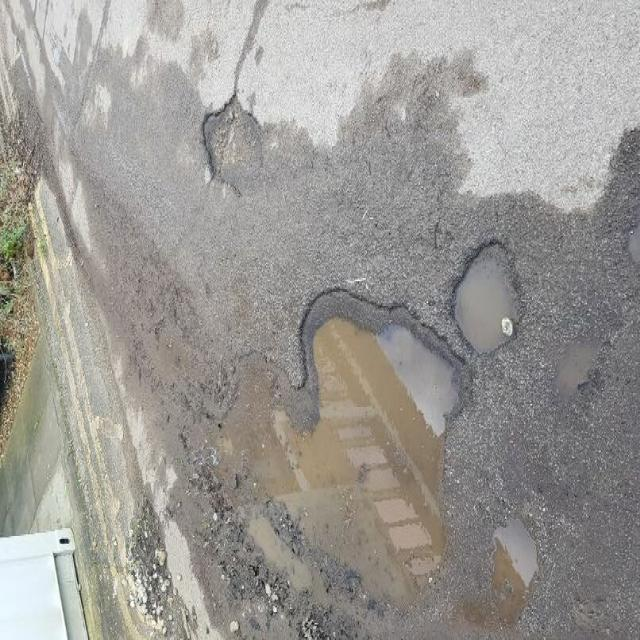pothole: (200, 273, 472, 603), (445, 228, 528, 365), (198, 88, 268, 206)
